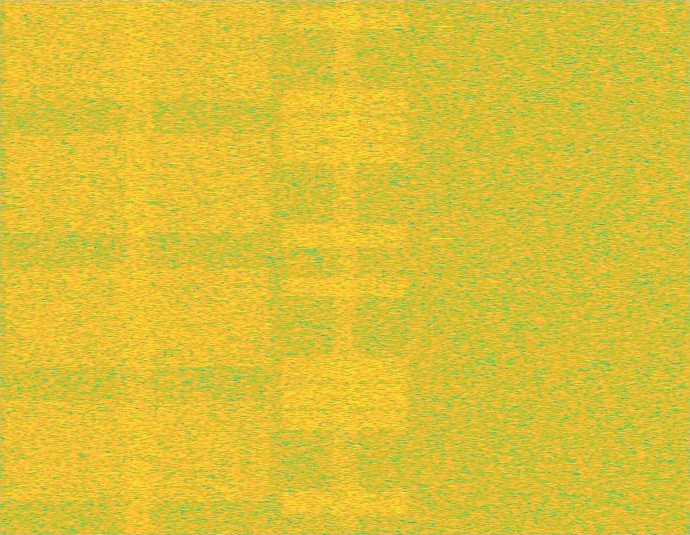5G: (0, 0, 276, 534)
DSSS: (119, 0, 157, 534), (329, 0, 361, 534)
LTE: (276, 0, 414, 534)
Radar: (437, 0, 450, 534)
